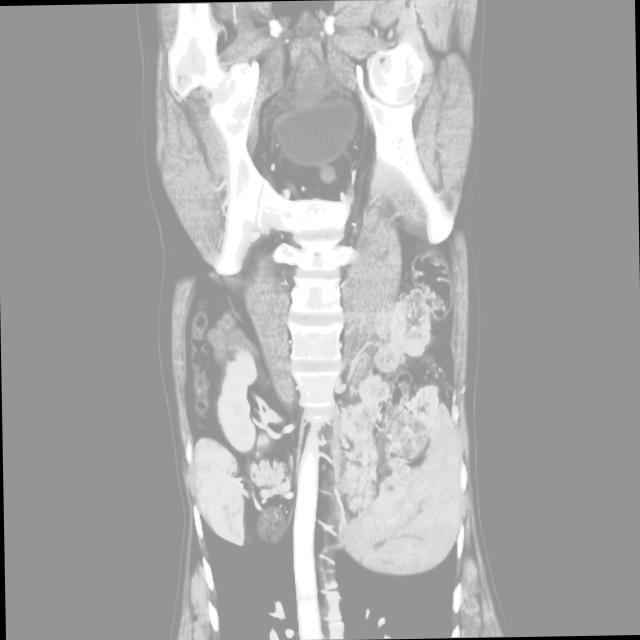TUMOR: (162, 177, 495, 424)
